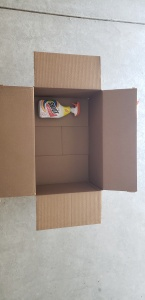innerbox: (33, 86, 105, 192)
outerbox: (2, 51, 135, 227)
product: (37, 98, 81, 118)
